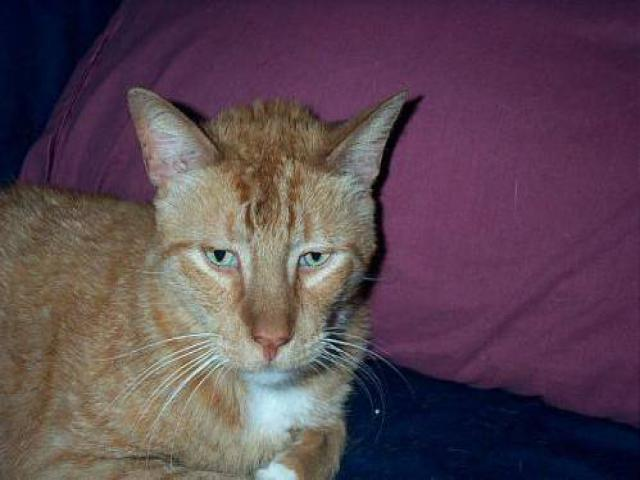cat: (1, 81, 417, 475)
